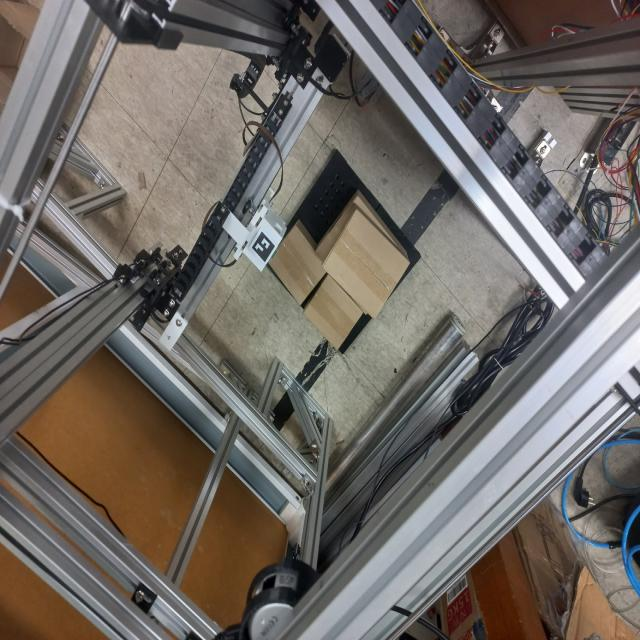box: (322, 206, 412, 323), (263, 218, 329, 310), (301, 271, 364, 356)
